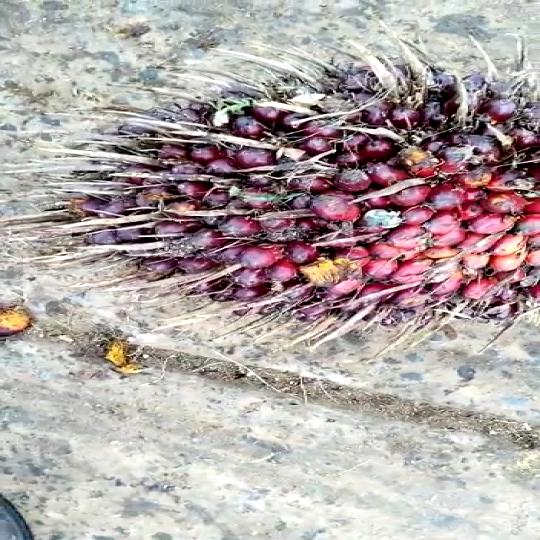masak: (71, 35, 540, 331)
